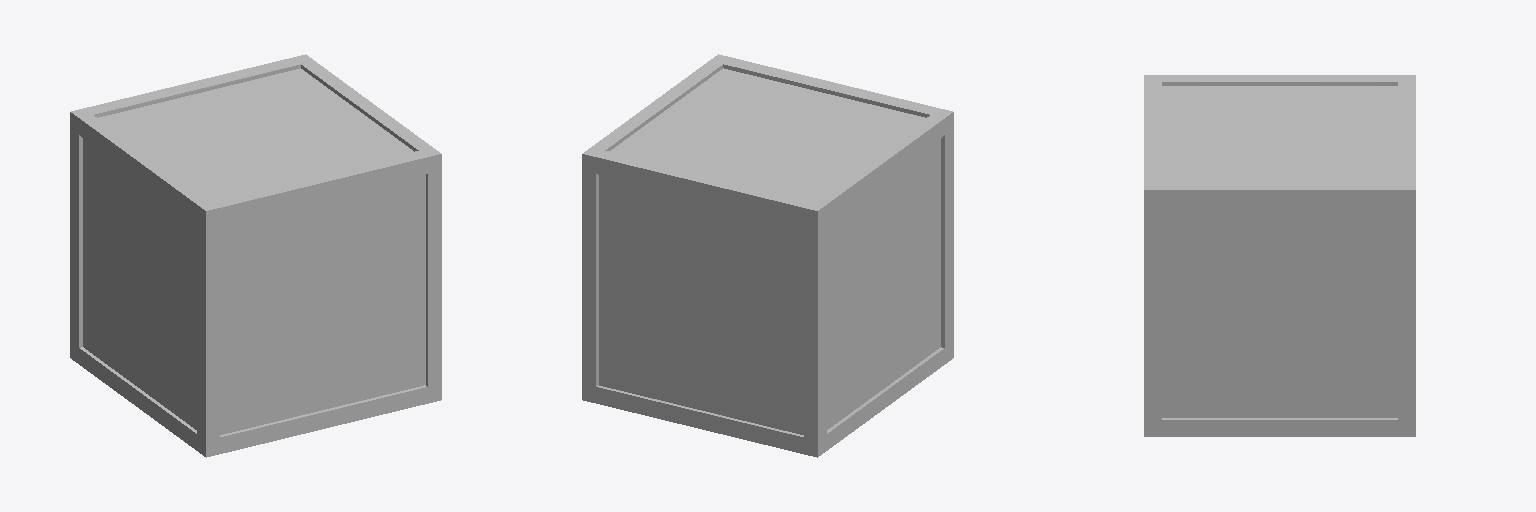
Rendered from WoodenCrateOBJ.obj.
3 views of the same model, side by side, from view 1: azimuth 30°, elevation 25°; view 2: azimuth 150°, elevation 25°; view 3: azimuth 270°, elevation 25° (orthographic).
Parts seen in each view (by area): view 1: Crate_Cube; view 2: Crate_Cube; view 3: Crate_Cube.
Boxes of the visible parts, x1,y1,x2,y2 form: Crate_Cube: [70, 54, 441, 457]; Crate_Cube: [582, 54, 953, 457]; Crate_Cube: [1144, 75, 1415, 436].
Bounding box in the file's own units: 1.49 × 1.49 × 1.49.